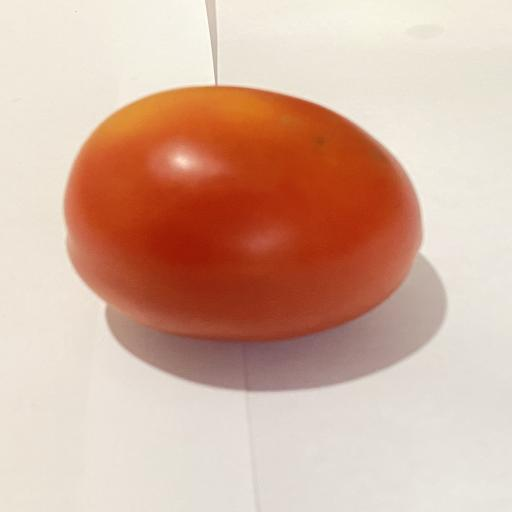ripe: (65, 86, 422, 340)
